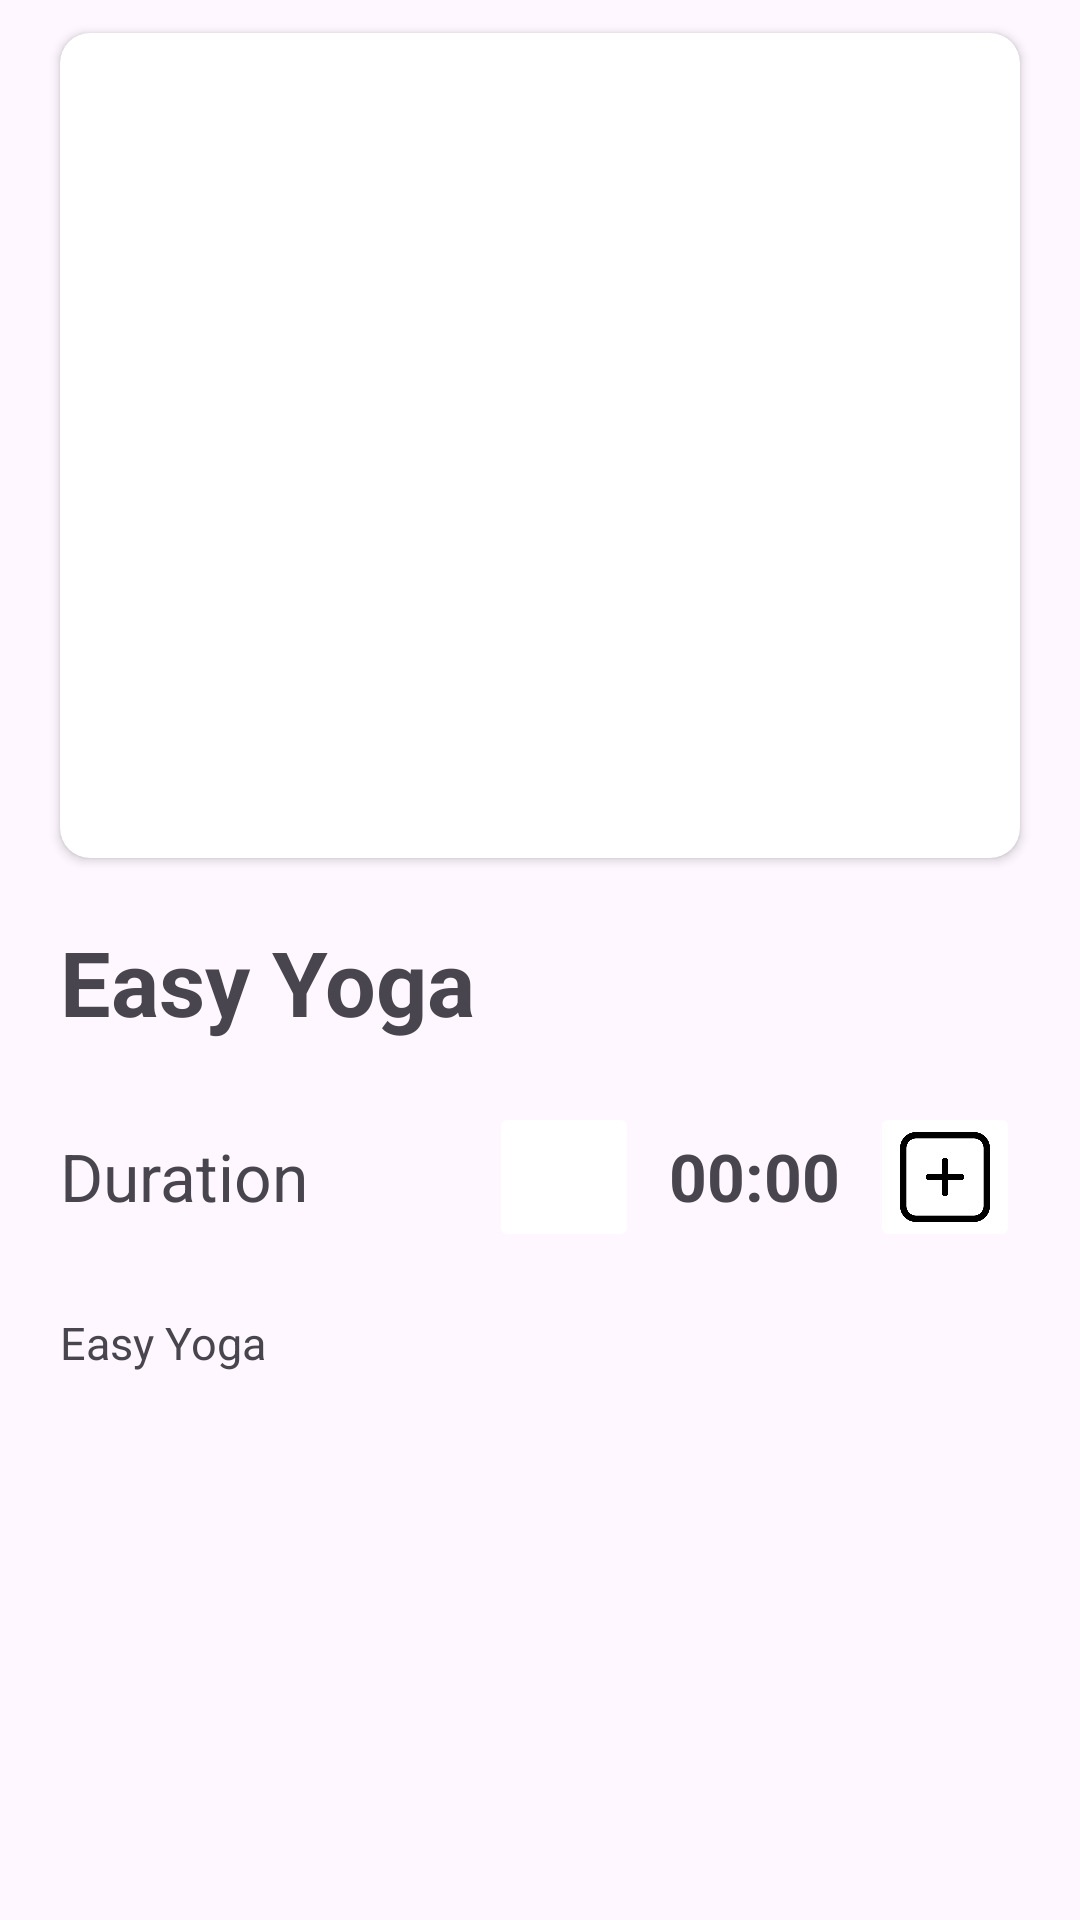

Icons on this 1080w x 1920h Android screen, each with its box as (x1, y1, x2, y2):
add: (900, 1132, 990, 1222)
